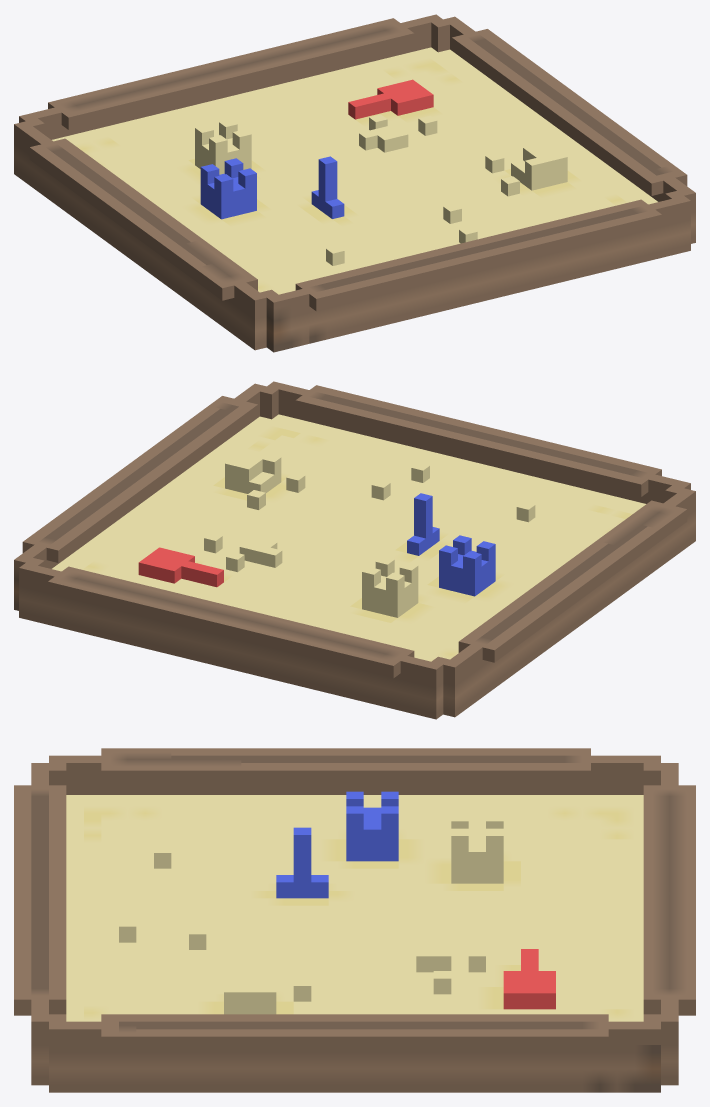
File: sandpit.obj
3 renders of one model, top to bottom at view 1: azimuth 30°, elevation 25°; view 2: azimuth 150°, elevation 25°; view 3: azimuth 270°, elevation 25°, orthographic. The views are drawn at different scales.
Parts seen in each view (by area): view 1: Box_46; view 2: Box_46; view 3: Box_46.
Part boxes in pixels (x1,y1,x2,y2): Box_46: [14, 14, 695, 352]; Box_46: [14, 381, 695, 719]; Box_46: [14, 748, 695, 1092].
Bounding box in the file's own units: 39 × 6 × 39.
1 material, 1 textured.
